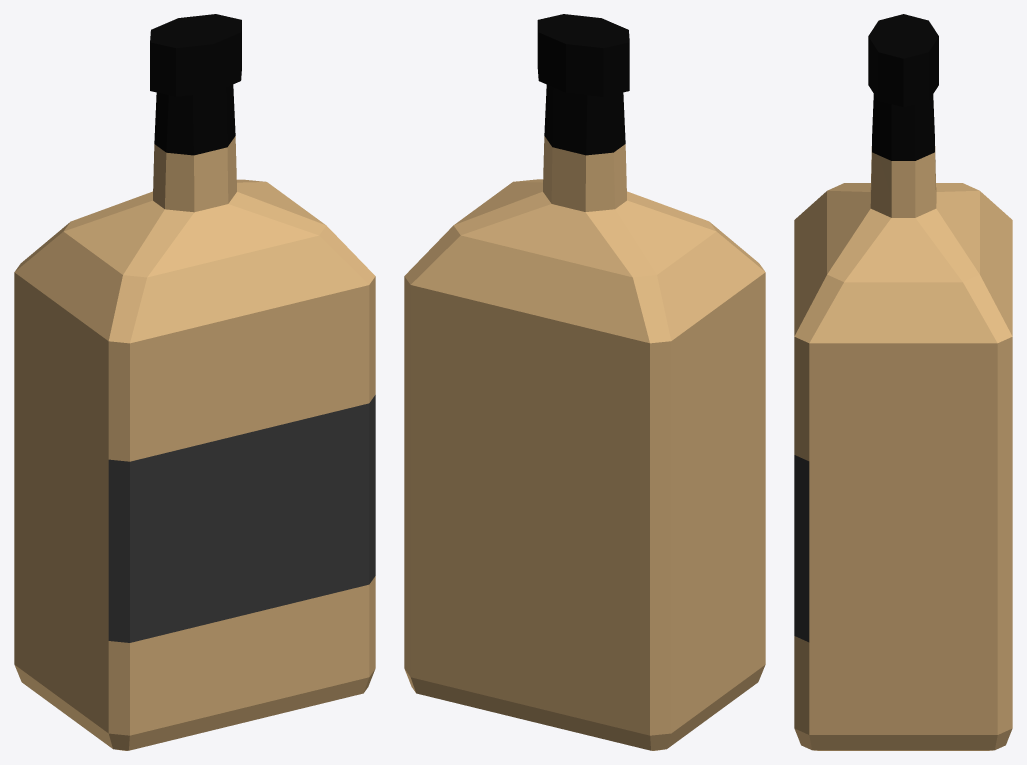
File: Ma_Drink_2.fbx
3 renders of one model, left to right at view 1: azimuth 30°, elevation 25°; view 2: azimuth 150°, elevation 25°; view 3: azimuth 270°, elevation 25°, orthographic.
Parts seen in each view (by area): view 1: Ma_Drink_2; view 2: Ma_Drink_2; view 3: Ma_Drink_2.
Part boxes in pixels (<box>): Ma_Drink_2: <box>14,14,375,750</box>; Ma_Drink_2: <box>404,14,765,750</box>; Ma_Drink_2: <box>794,14,1012,750</box>.
Size of the model in its own units: 91.79 by 65.08 by 217.
